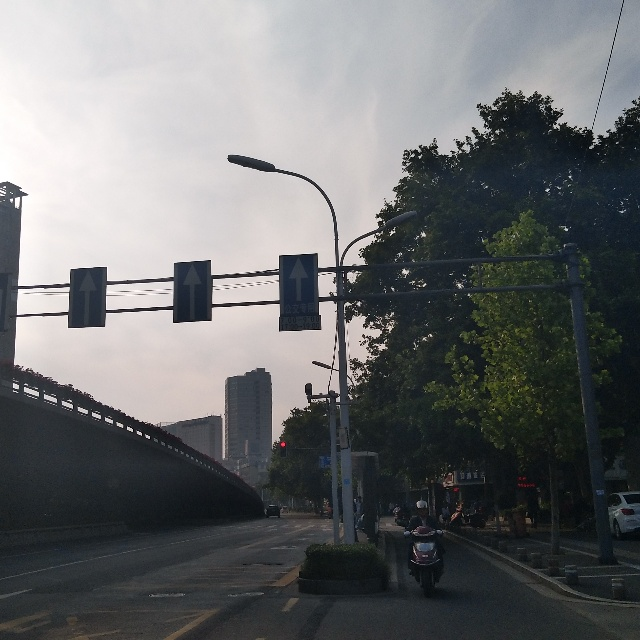straight: (70, 265, 106, 327), (173, 260, 209, 320), (281, 255, 316, 311)
